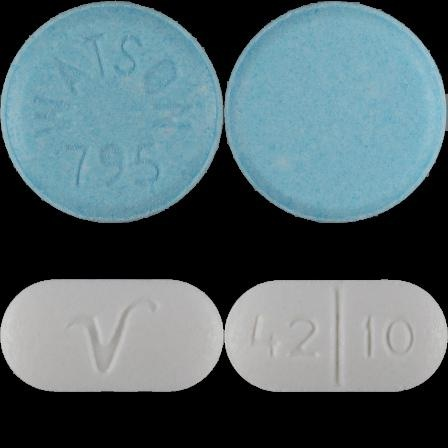68788-9525: (0, 0, 224, 224)
